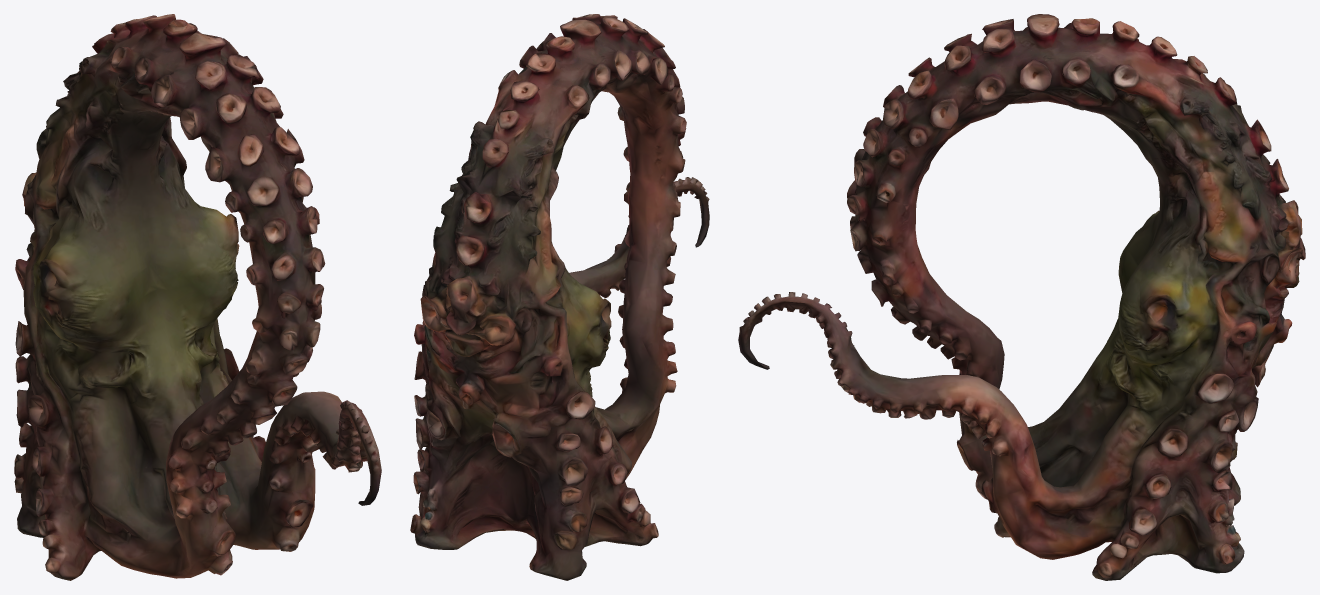
Rendered from abyss-tentacle.lod1.glb.
3 views of the same model, side by side, from view 1: azimuth 30°, elevation 25°; view 2: azimuth 150°, elevation 25°; view 3: azimuth 270°, elevation 25° (orthographic). The views are drawn at different scales.
Parts seen in each view (by area): view 1: tripo_node_2e1ea6a1-5001-43ff-9e51-a9320c50b275; view 2: tripo_node_2e1ea6a1-5001-43ff-9e51-a9320c50b275; view 3: tripo_node_2e1ea6a1-5001-43ff-9e51-a9320c50b275.
Part boxes in pixels (x1,y1,x2,y2): tripo_node_2e1ea6a1-5001-43ff-9e51-a9320c50b275: (14,14,381,580); tripo_node_2e1ea6a1-5001-43ff-9e51-a9320c50b275: (410,14,709,580); tripo_node_2e1ea6a1-5001-43ff-9e51-a9320c50b275: (738,14,1305,580).
Bounding box in the file's own units: 0.4644 × 0.9792 × 0.9799.
Materials: 1 (1 with a texture image).
